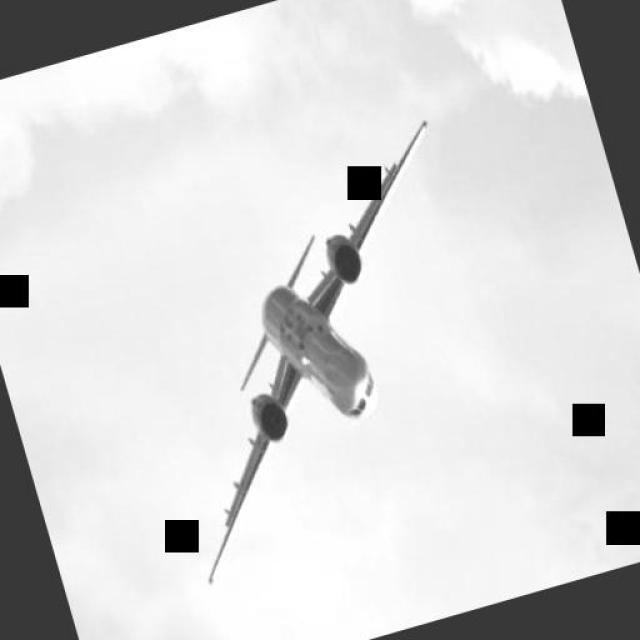aeroplane: (210, 122, 429, 579)
